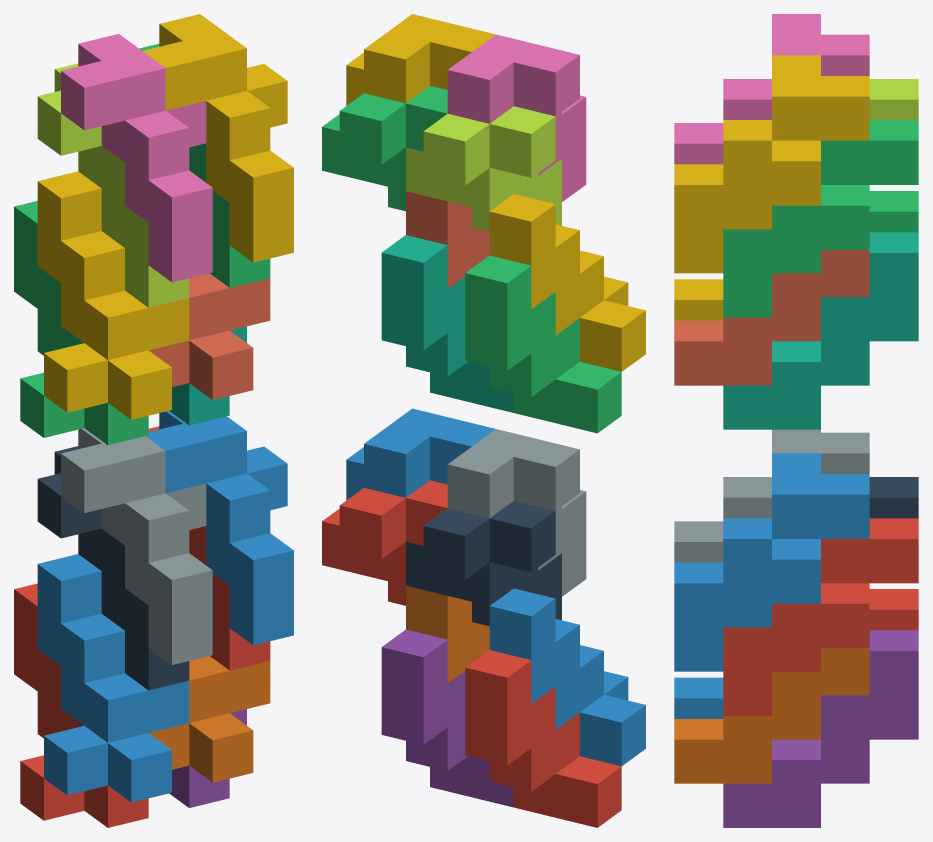
Rendered from tiling.obj.
3 views of the same model, side by side, from view 1: azimuth 30°, elevation 25°; view 2: azimuth 150°, elevation 25°; view 3: azimuth 270°, elevation 25° (orthographic). The views are drawn at different scales.
Visible parts, largest first — view 1: copy_1_domain_4, copy_1_domain_2, copy_2_domain_4, copy_2_domain_2, copy_2_domain_8, copy_2_domain_6, copy_1_domain_6, copy_1_domain_8, copy_1_domain_1, copy_1_domain_3, copy_2_domain_3, copy_2_domain_1 (+4 smaller); view 2: copy_1_domain_1, copy_1_domain_3, copy_1_domain_2, copy_1_domain_4, copy_2_domain_3, copy_2_domain_1, copy_1_domain_5, copy_1_domain_7, copy_2_domain_2, copy_2_domain_4, copy_2_domain_5, copy_2_domain_7 (+4 smaller); view 3: copy_2_domain_6, copy_2_domain_8, copy_1_domain_5, copy_1_domain_7, copy_2_domain_5, copy_2_domain_7, copy_1_domain_8, copy_1_domain_6, copy_2_domain_4, copy_2_domain_2, copy_1_domain_4, copy_1_domain_1 (+4 smaller).
Part boxes in pixels (bbox=[...]): copy_1_domain_4: bbox=[37, 171, 189, 419]; copy_1_domain_2: bbox=[37, 554, 189, 802]; copy_2_domain_4: bbox=[61, 34, 212, 282]; copy_2_domain_2: bbox=[61, 428, 212, 664]; copy_2_domain_8: bbox=[143, 14, 293, 262]; copy_2_domain_6: bbox=[146, 411, 293, 645]; copy_1_domain_6: bbox=[149, 656, 270, 782]; copy_1_domain_8: bbox=[149, 273, 270, 399]; copy_1_domain_1: bbox=[14, 583, 148, 827]; copy_1_domain_3: bbox=[14, 201, 148, 445]; copy_2_domain_3: bbox=[37, 63, 189, 307]; copy_2_domain_1: bbox=[37, 446, 189, 690]; copy_1_domain_1: bbox=[465, 650, 621, 827]; copy_1_domain_3: bbox=[465, 255, 621, 433]; copy_1_domain_2: bbox=[489, 588, 645, 766]; copy_1_domain_4: bbox=[489, 194, 645, 371]; copy_2_domain_3: bbox=[406, 106, 561, 231]; copy_2_domain_1: bbox=[406, 501, 561, 626]; copy_1_domain_5: bbox=[381, 629, 513, 807]; copy_1_domain_7: bbox=[381, 235, 513, 412]; copy_2_domain_2: bbox=[447, 429, 586, 596]; copy_2_domain_4: bbox=[447, 34, 586, 201]; copy_2_domain_5: bbox=[322, 480, 447, 605]; copy_2_domain_7: bbox=[322, 86, 447, 211]; copy_2_domain_6: bbox=[674, 453, 869, 671]; copy_2_domain_8: bbox=[674, 55, 869, 273]; copy_1_domain_5: bbox=[723, 630, 918, 827]; copy_1_domain_7: bbox=[723, 232, 918, 429]; copy_2_domain_5: bbox=[723, 518, 918, 715]; copy_2_domain_7: bbox=[723, 120, 918, 317]; copy_1_domain_8: bbox=[674, 250, 869, 385]; copy_1_domain_6: bbox=[674, 648, 869, 783]; copy_2_domain_4: bbox=[674, 14, 869, 164]; copy_2_domain_2: bbox=[674, 429, 869, 562]; copy_1_domain_4: bbox=[674, 279, 723, 320]; copy_1_domain_1: bbox=[869, 589, 918, 630].
Bounding box in the file's own units: 6 × 17 × 5.
